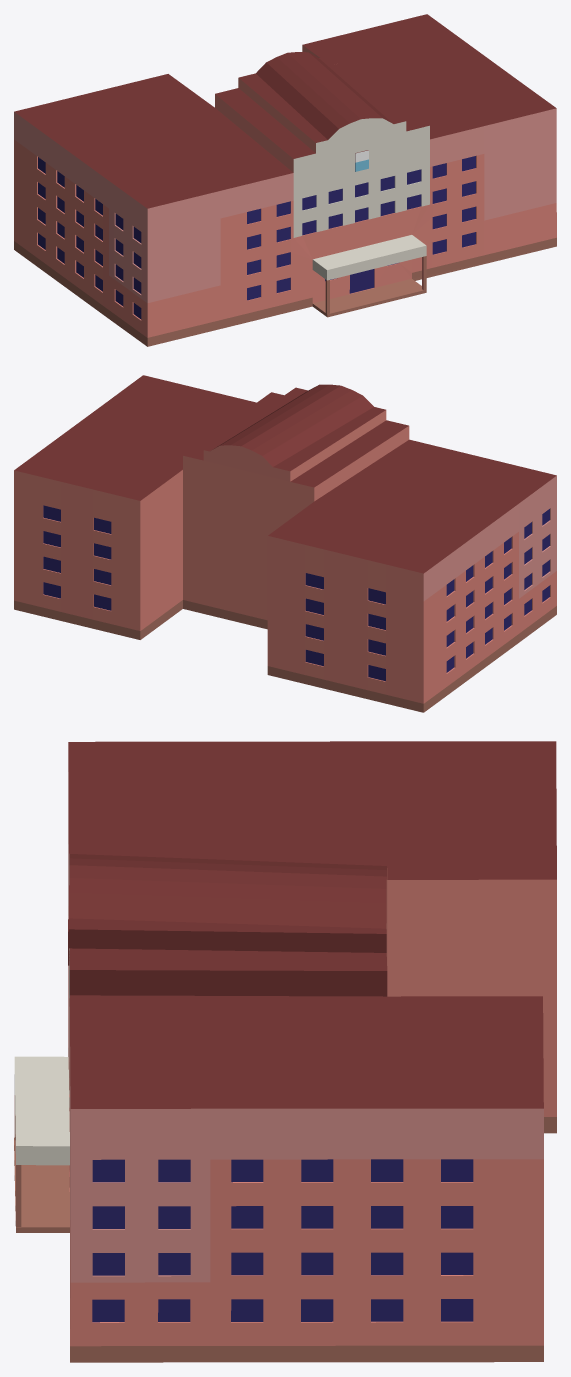
The model's file is Администрация.glb.
3 views of the same model, one above another, from view 1: azimuth 30°, elevation 25°; view 2: azimuth 150°, elevation 25°; view 3: azimuth 270°, elevation 25° (orthographic). The views are drawn at different scales.
Visible parts, largest first — view 1: Администрация Горно-Алтайска; view 2: Администрация Горно-Алтайска; view 3: Администрация Горно-Алтайска.
Boxes of the visible parts, x1,y1,x2,y2 form: Администрация Горно-Алтайска: (14,14,556,346); Администрация Горно-Алтайска: (14,375,556,712); Администрация Горно-Алтайска: (14,741,556,1362).
Size of the model in its own units: 62.2 by 25.38 by 38.81.
